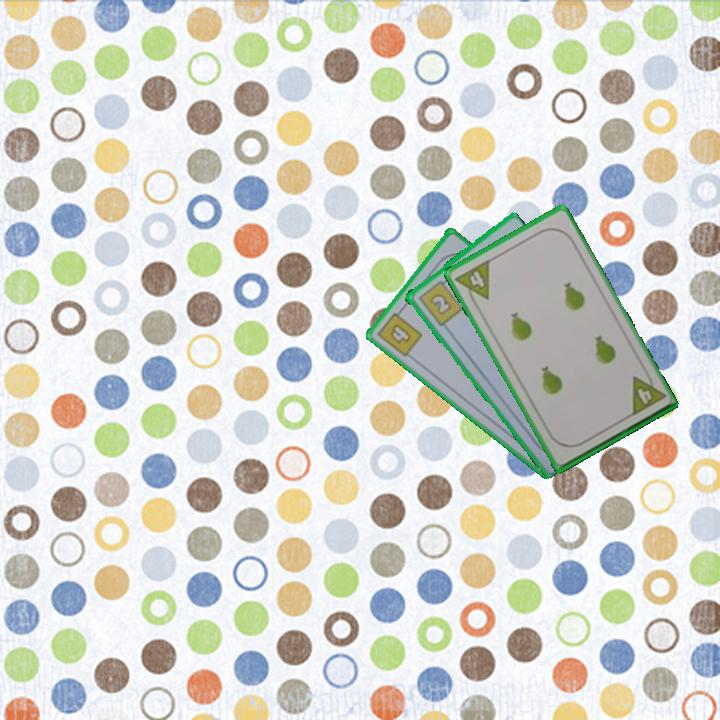2b: (414, 275, 465, 329)
4b: (373, 304, 425, 360)
4p: (451, 256, 492, 309), (627, 367, 668, 419)
